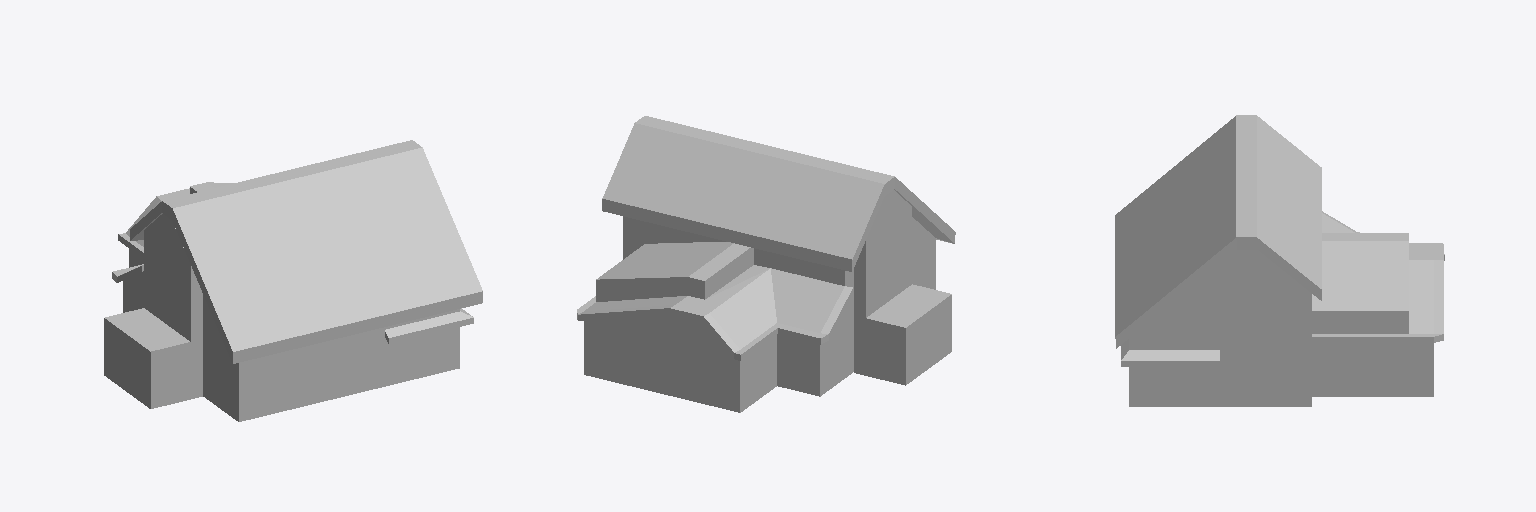
File: Fachada.obj
3 renders of one model, left to right at view 1: azimuth 30°, elevation 25°; view 2: azimuth 150°, elevation 25°; view 3: azimuth 270°, elevation 25°, orthographic.
Parts seen in each view (by area): view 1: Cube, Cube.002; view 2: Cube, Cube.002; view 3: Cube.
Part boxes in pixels (x1,y1,x2,y2): Cube: (112,140,482,421); Cube.002: (104,214,202,408); Cube: (577,116,955,412); Cube.002: (854,190,951,385); Cube: (1115,115,1444,406).
Size of the model in its own units: 44.56 by 26.22 by 43.85.